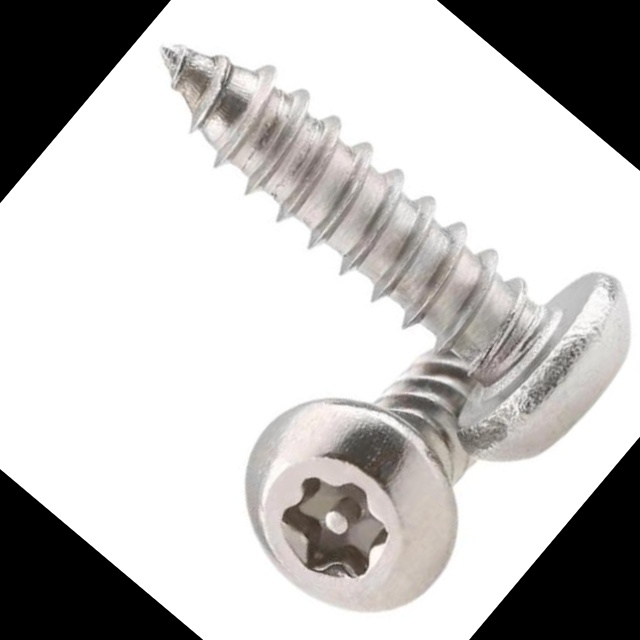torx: (196, 352, 504, 640)
